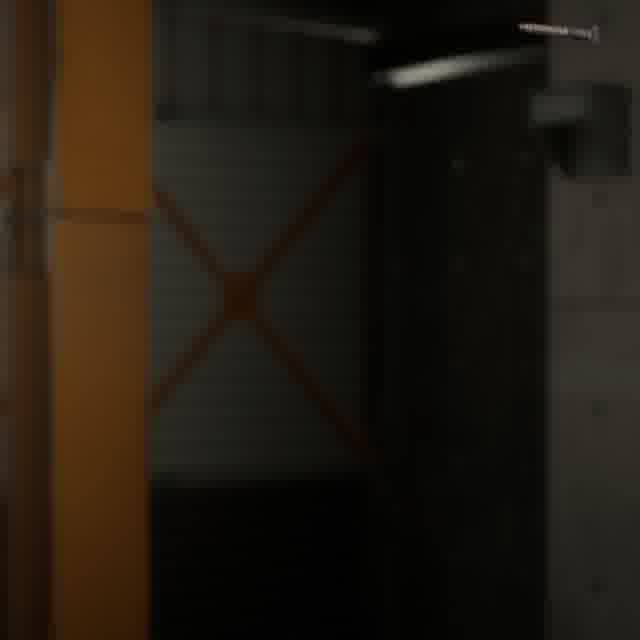bolt: (513, 19, 604, 50)
